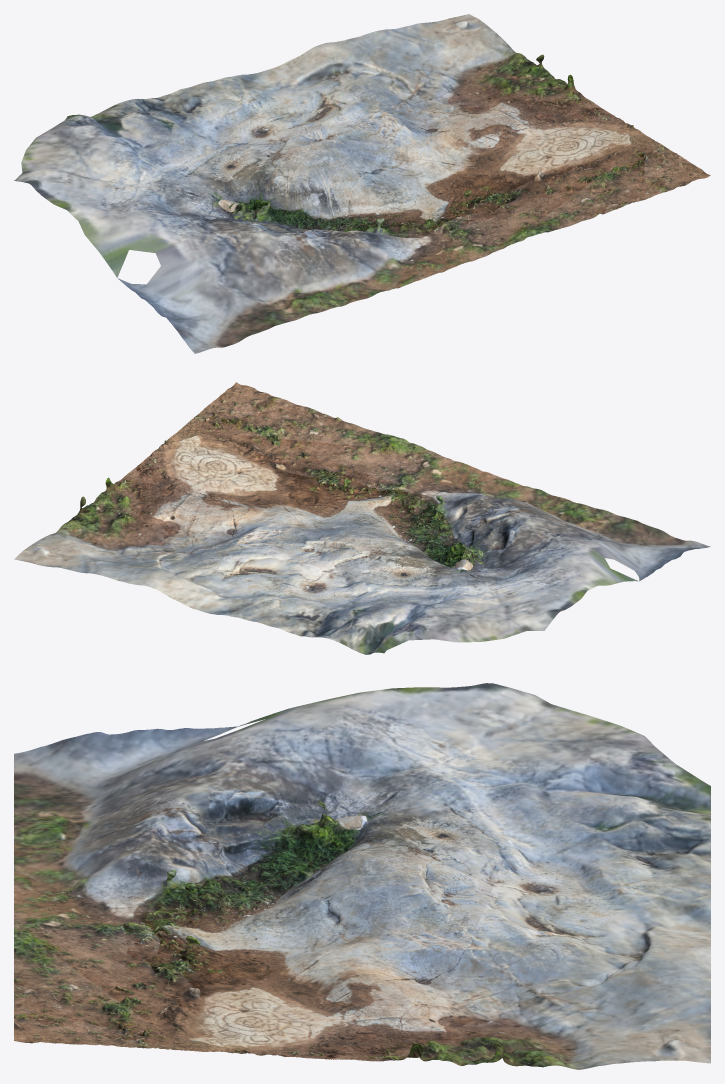
File: dalle-09.glb
3 views of the same model, one above another, from view 1: azimuth 30°, elevation 25°; view 2: azimuth 150°, elevation 25°; view 3: azimuth 270°, elevation 25° (orthographic). The views are drawn at different scales.
Parts seen in each view (by area): view 1: Node1; view 2: Node1; view 3: Node1.
Boxes of the visible parts, x1,y1,x2,y2 form: Node1: [14, 14, 710, 353]; Node1: [14, 382, 710, 654]; Node1: [14, 683, 710, 1069].
Size of the model in its own units: 2.27 by 0.2262 by 1.84.
1 material, 1 textured.
